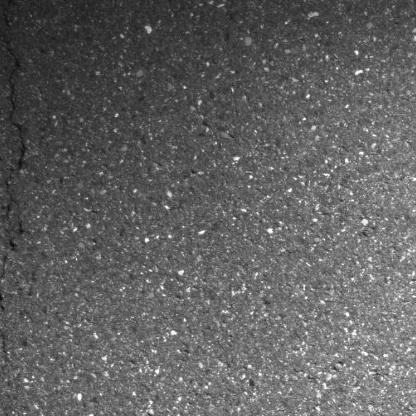Cracks: (0, 0, 32, 379)
